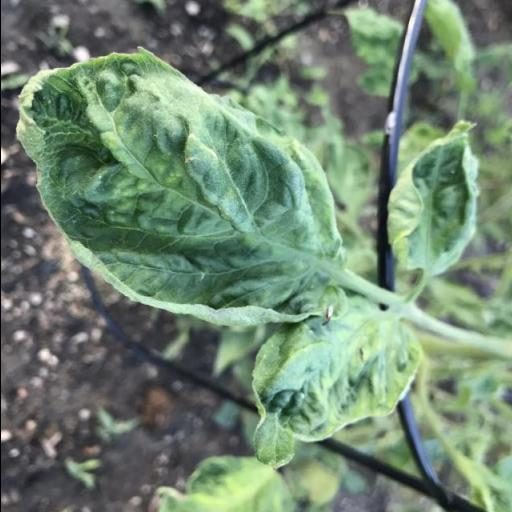Mosaic Virus: (18, 42, 336, 328), (249, 301, 419, 470), (385, 118, 483, 278)
